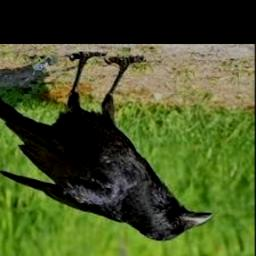Crow: (0, 51, 217, 242)
